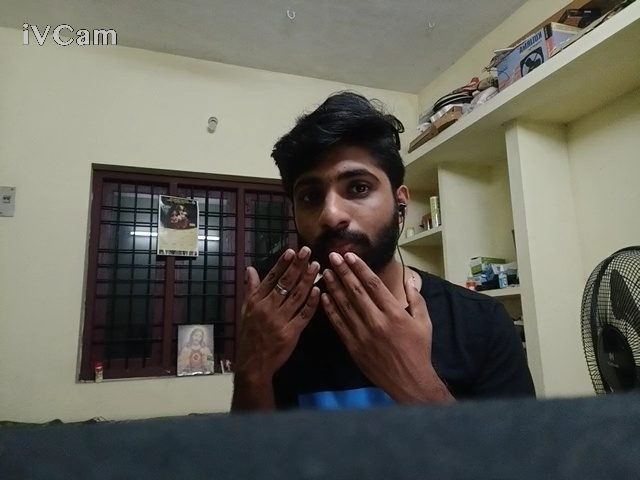Thank You: (205, 227, 457, 480)
